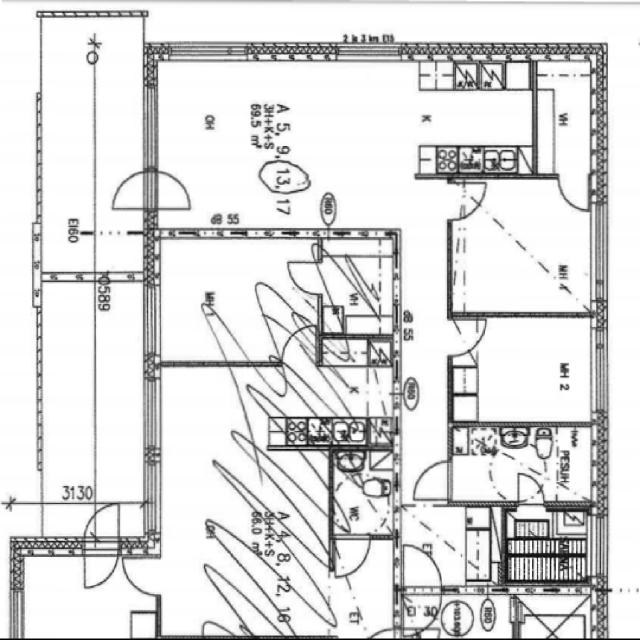door: (400, 542, 444, 594), (150, 166, 195, 214), (411, 458, 453, 505), (331, 533, 372, 581), (81, 544, 121, 593), (110, 168, 152, 214), (451, 314, 489, 362), (402, 593, 443, 636), (120, 554, 159, 598), (87, 502, 121, 546), (286, 258, 322, 298), (512, 469, 548, 508), (556, 173, 591, 212), (457, 178, 488, 217)
window: (137, 82, 164, 173), (587, 200, 611, 301), (586, 325, 612, 418), (139, 372, 167, 457), (139, 282, 166, 361), (140, 459, 164, 542), (168, 42, 248, 64), (336, 42, 404, 66), (589, 511, 611, 583), (4, 583, 28, 640)
zone: (152, 64, 343, 237), (449, 176, 598, 318), (148, 236, 313, 364), (452, 315, 604, 427), (449, 426, 556, 506), (317, 233, 399, 337), (533, 58, 600, 178), (494, 431, 595, 506), (330, 448, 398, 538), (503, 505, 592, 571), (318, 336, 394, 385)
